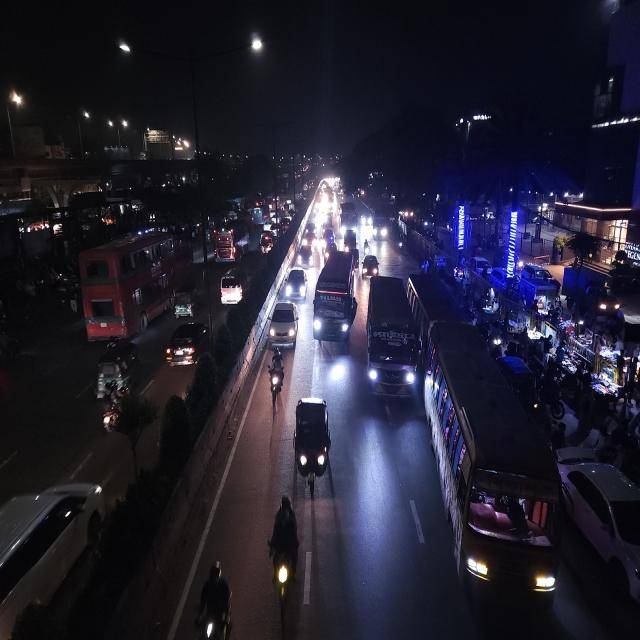bus: (426, 325, 560, 612), (75, 230, 183, 339), (364, 270, 422, 407), (312, 249, 358, 348), (213, 220, 250, 262), (339, 201, 357, 236), (372, 210, 390, 242), (252, 204, 266, 226)
car: (0, 472, 108, 638), (562, 457, 640, 615), (165, 318, 209, 370), (268, 298, 299, 349), (219, 267, 247, 310), (281, 265, 309, 300), (362, 252, 380, 279), (470, 255, 490, 278), (297, 243, 315, 268), (321, 228, 336, 252), (302, 230, 317, 247)
cng: (290, 394, 334, 495), (94, 337, 140, 399), (173, 279, 199, 318)
motorcycle: (266, 491, 302, 618), (194, 557, 236, 638), (101, 383, 129, 436), (264, 346, 286, 409), (362, 236, 372, 255)
